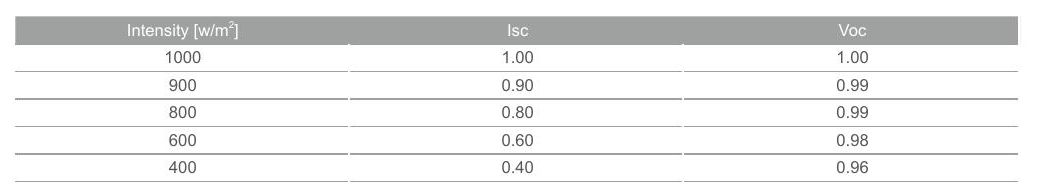table: (5, 6, 1031, 188)
table column: (689, 13, 1011, 184), (358, 14, 677, 185), (28, 14, 344, 185)
table column header: (17, 18, 1017, 43)
table row: (16, 17, 1019, 45), (16, 131, 1022, 154), (17, 158, 1022, 180), (17, 103, 1022, 124), (17, 75, 1020, 96), (18, 47, 1019, 68)
